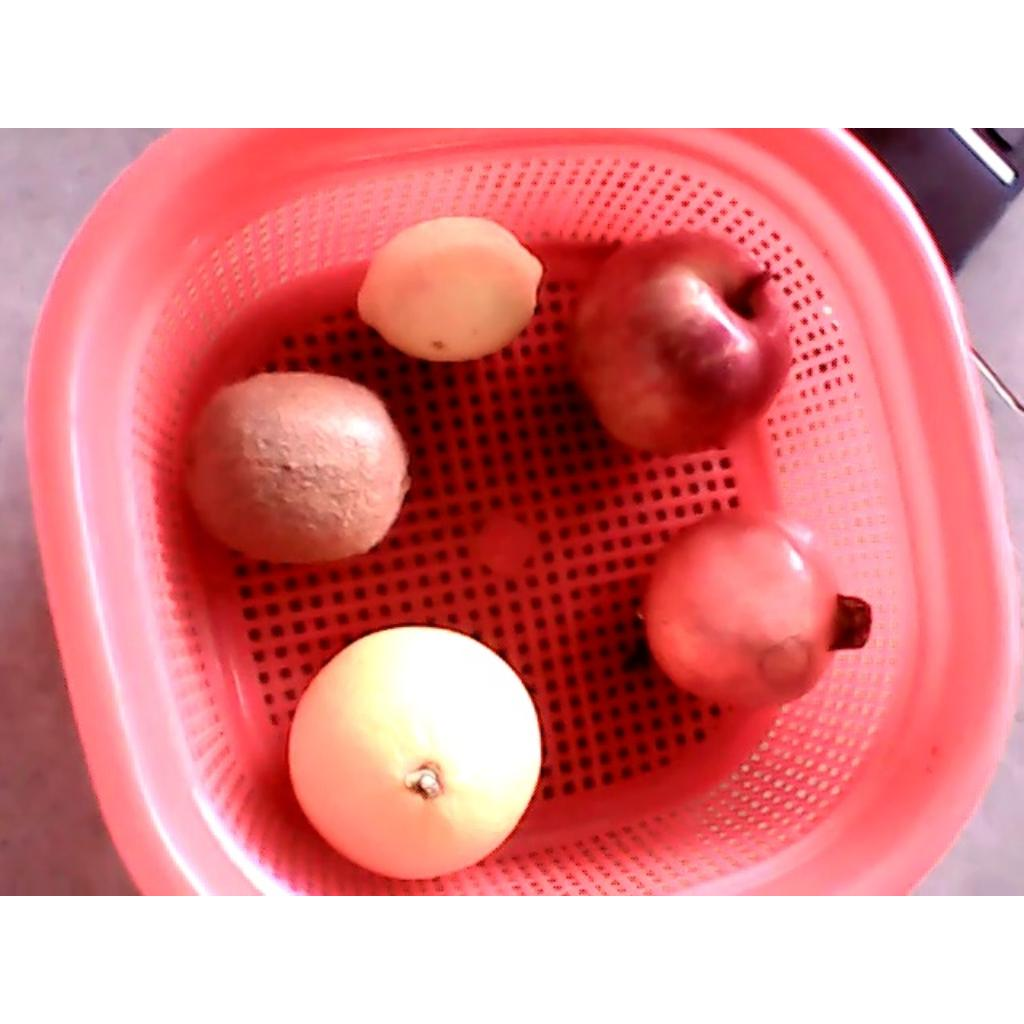apple: (565, 231, 797, 457)
kiwi: (177, 371, 411, 565)
lemon: (358, 217, 548, 364)
orange: (287, 625, 542, 881)
pomegranate: (641, 507, 873, 717)
